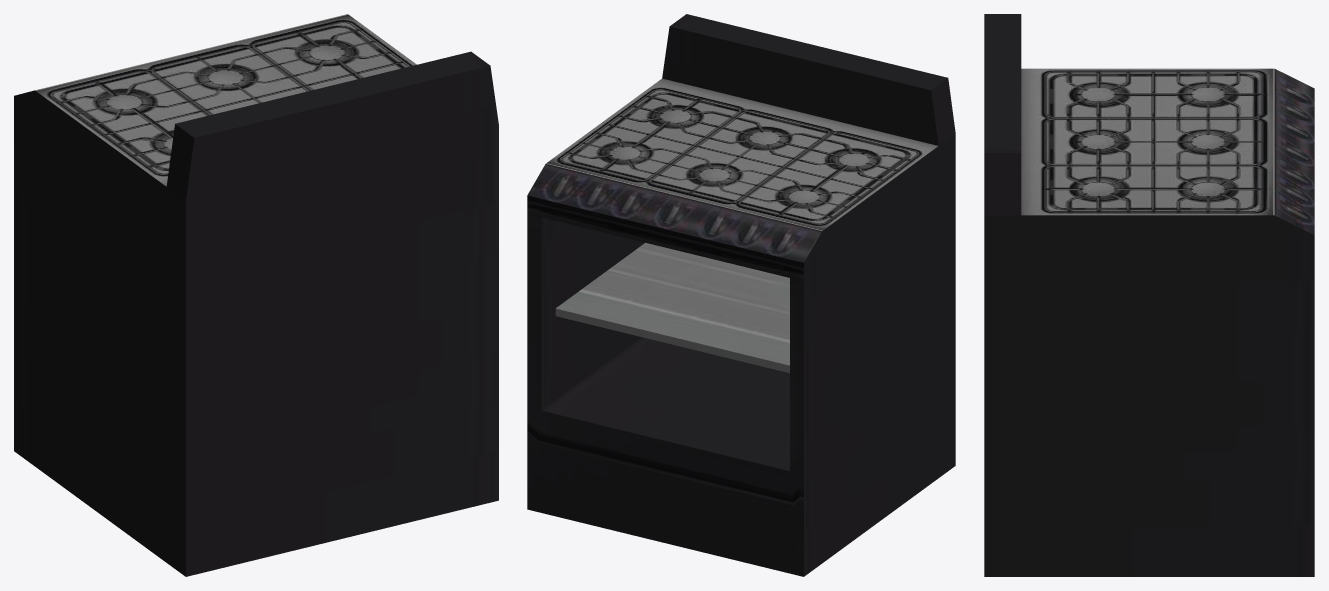
Rendered from Stove_02.glb.
The picture shows the model from 3 angles, left to right: view 1: azimuth 30°, elevation 25°; view 2: azimuth 150°, elevation 25°; view 3: azimuth 270°, elevation 25°; orthographic projection. The views are drawn at different scales.
Visible parts, largest first — view 1: Stove_02; view 2: Stove_02; view 3: Stove_02.
Boxes of the visible parts, bbox=[...] form: Stove_02: bbox=[14, 14, 498, 576]; Stove_02: bbox=[527, 14, 955, 576]; Stove_02: bbox=[984, 14, 1314, 576].
Size of the model in its own units: 0.9088 by 1.21 by 0.8643.
1 material, 1 textured.
